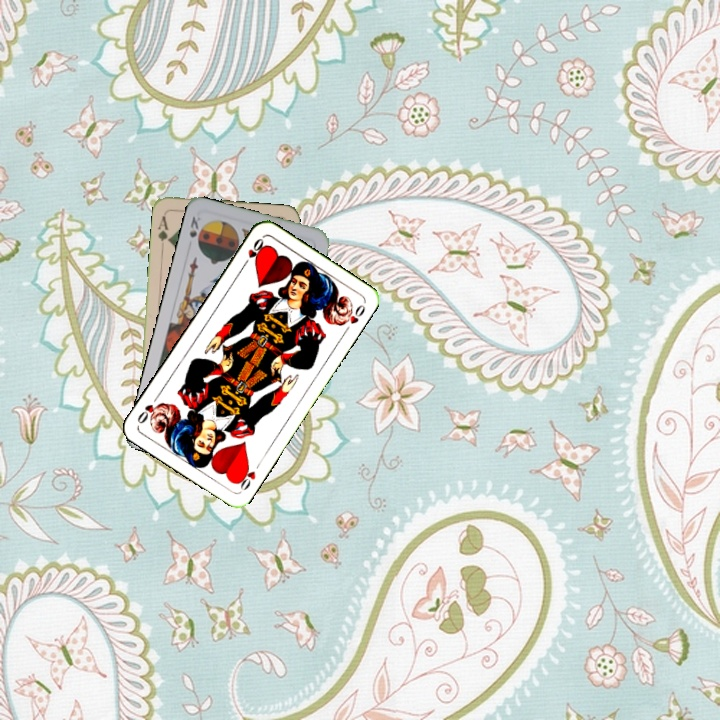GA: (154, 210, 173, 250)
HO: (239, 234, 267, 270), (233, 462, 258, 493)
SK: (185, 212, 203, 240)
